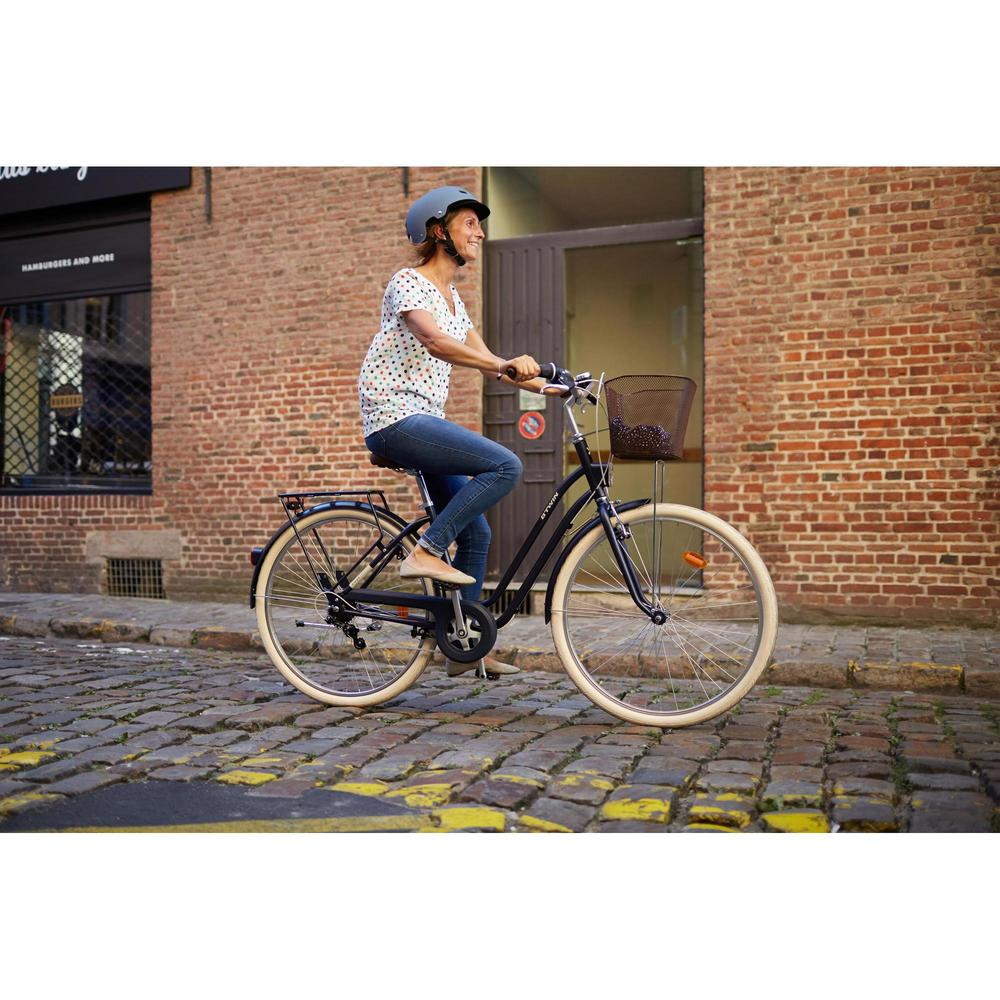UrbanBike: (229, 363, 793, 734)
